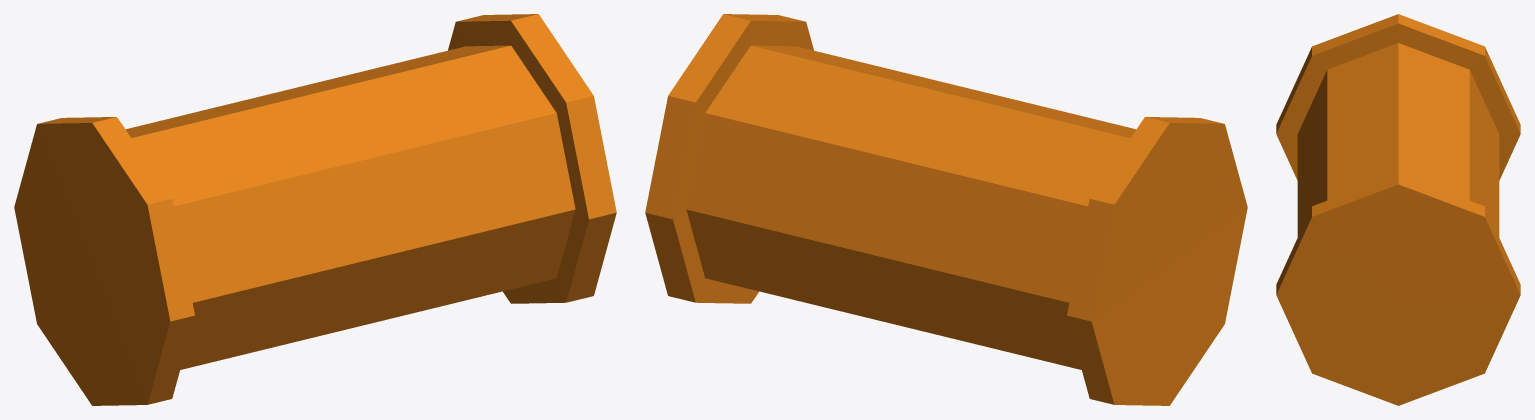
The model's file is Pipe.glb.
3 renders of one model, left to right at view 1: azimuth 30°, elevation 25°; view 2: azimuth 150°, elevation 25°; view 3: azimuth 270°, elevation 25°, orthographic. The views are drawn at different scales.
Parts seen in each view (by area): view 1: Cylinder; view 2: Cylinder; view 3: Cylinder.
Boxes of the visible parts, left/top/right/bottom form: Cylinder: left=14, top=14, right=616, bottom=405; Cylinder: left=645, top=14, right=1247, bottom=405; Cylinder: left=1276, top=14, right=1520, bottom=405.
Size of the model in its own units: 1 by 0.6059 by 0.6059.
